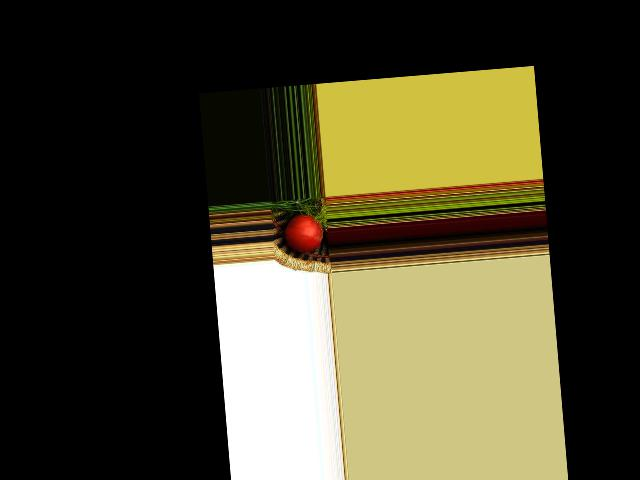tomato: (283, 211, 324, 254)
